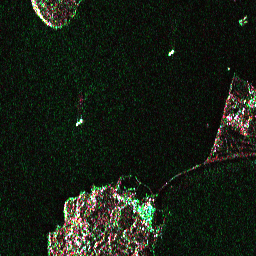ship: (165, 47, 177, 58), (73, 116, 84, 128)
